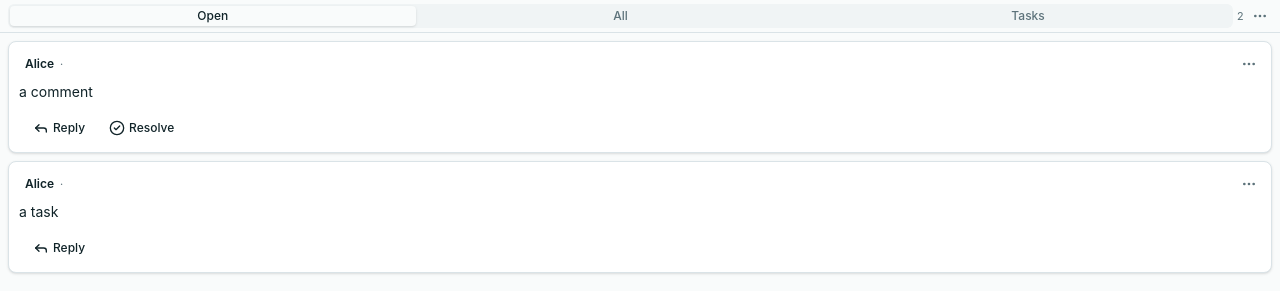
CommentRail › the Tasks filter shows only task threads
The image size is (1280, 291).
Click the tab "Tasks": x=1028, y=16 [825,6,1231,26]
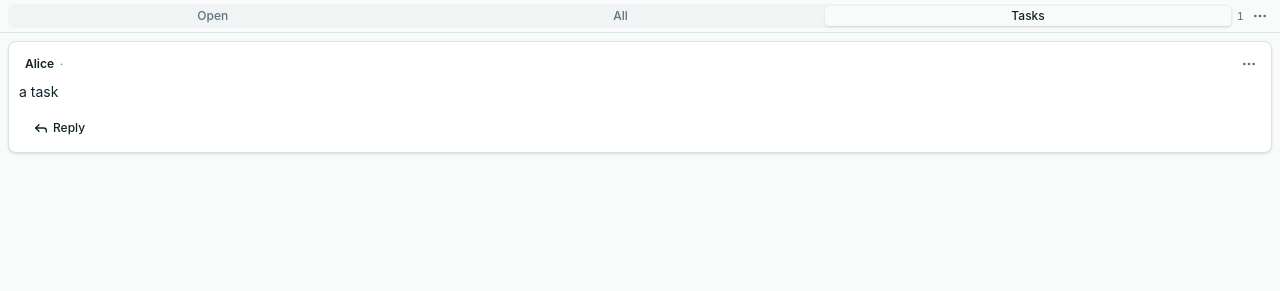
Expected: the text "a task" is shown, [19,83,58,100]
Now the text "a comment" is gone
Now the text with test id "comment-rail-count" reads "1", box [1237,9,1244,23]
